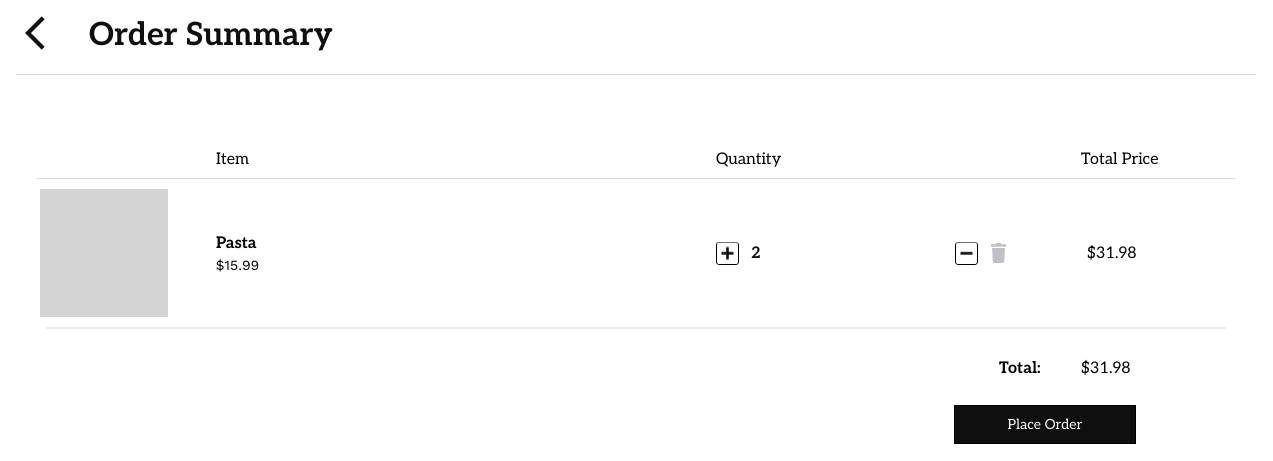
ViewOrder Component › updates order quantity and price on order change
Expected: the text "Pasta" is shown, top-left (216, 234), bottom-right (257, 252)
Expected: the text "$31.98" in the row of "$15.99" is shown, top-left (1087, 244), bottom-right (1136, 262)
// Assuming that the updateOrder function is called on input change
Click the picture with alt text "increment-button" at (728, 253), box top-left (716, 242), bottom-right (739, 264)
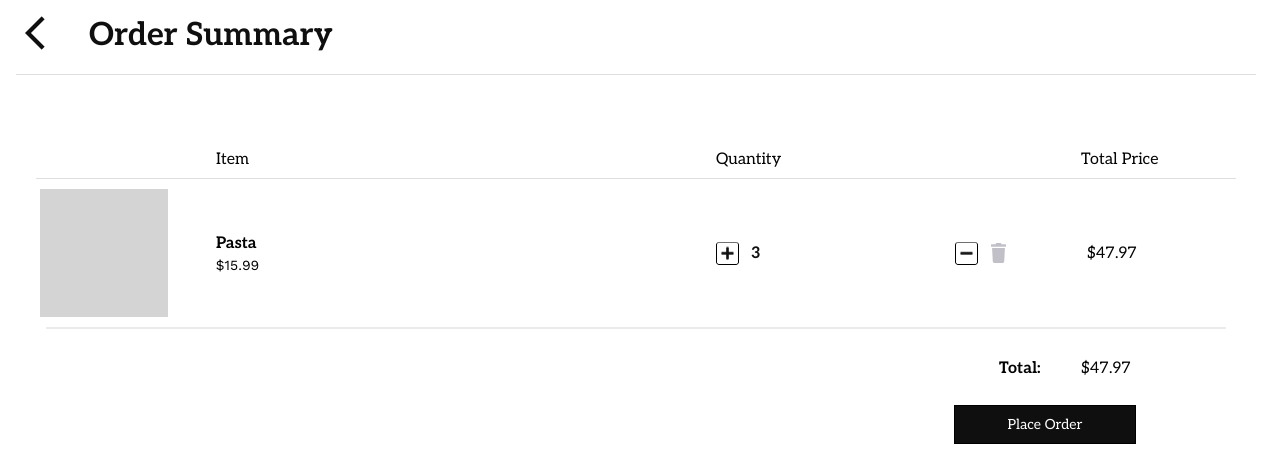
Expected: the text "$47.97" in the row of "$15.99" is shown, top-left (1087, 244), bottom-right (1137, 262)
